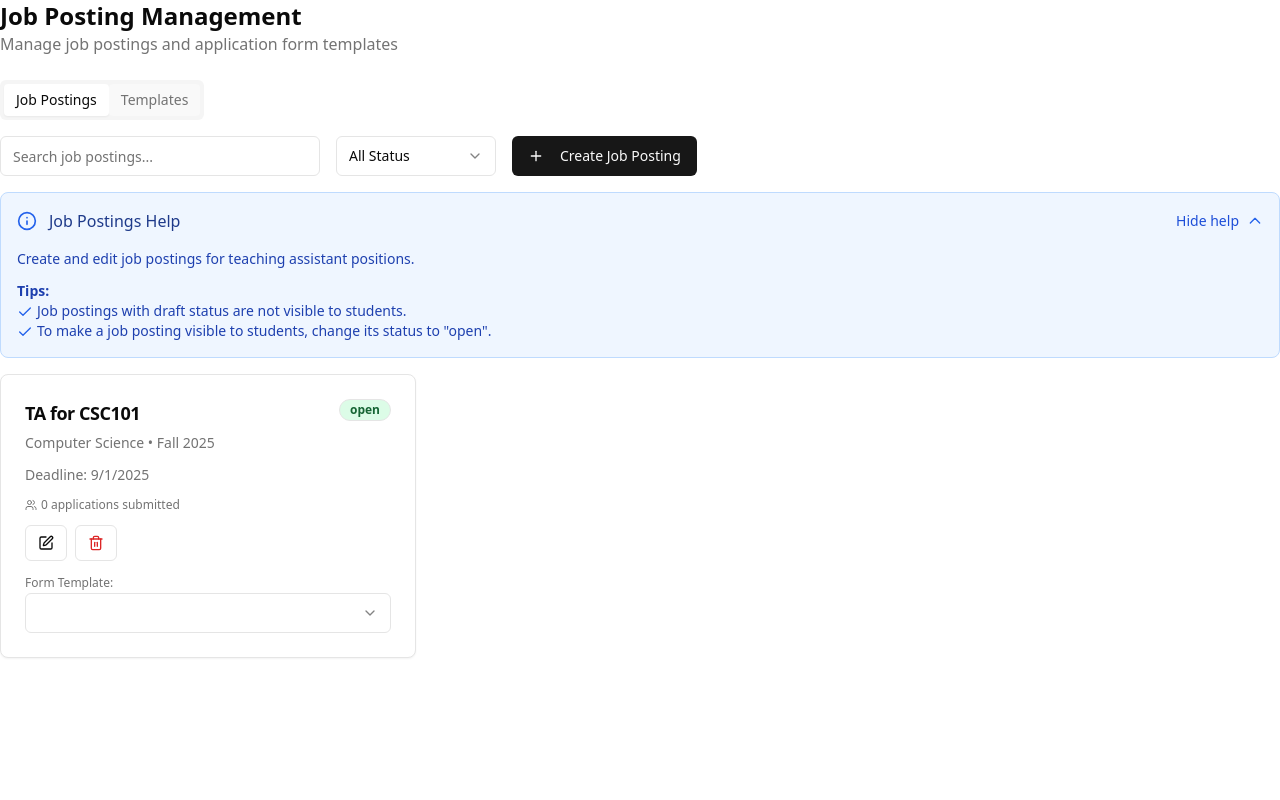
Test: JobManagementPage › opens edit job posting dialog when clicking edit button
This screenshot has width=1280, height=800.
Expected: the text "TA for CSC101" is shown, [25,399,140,427]
Click the button titled "Edit Job Posting": click(46, 543) [25,525,67,561]
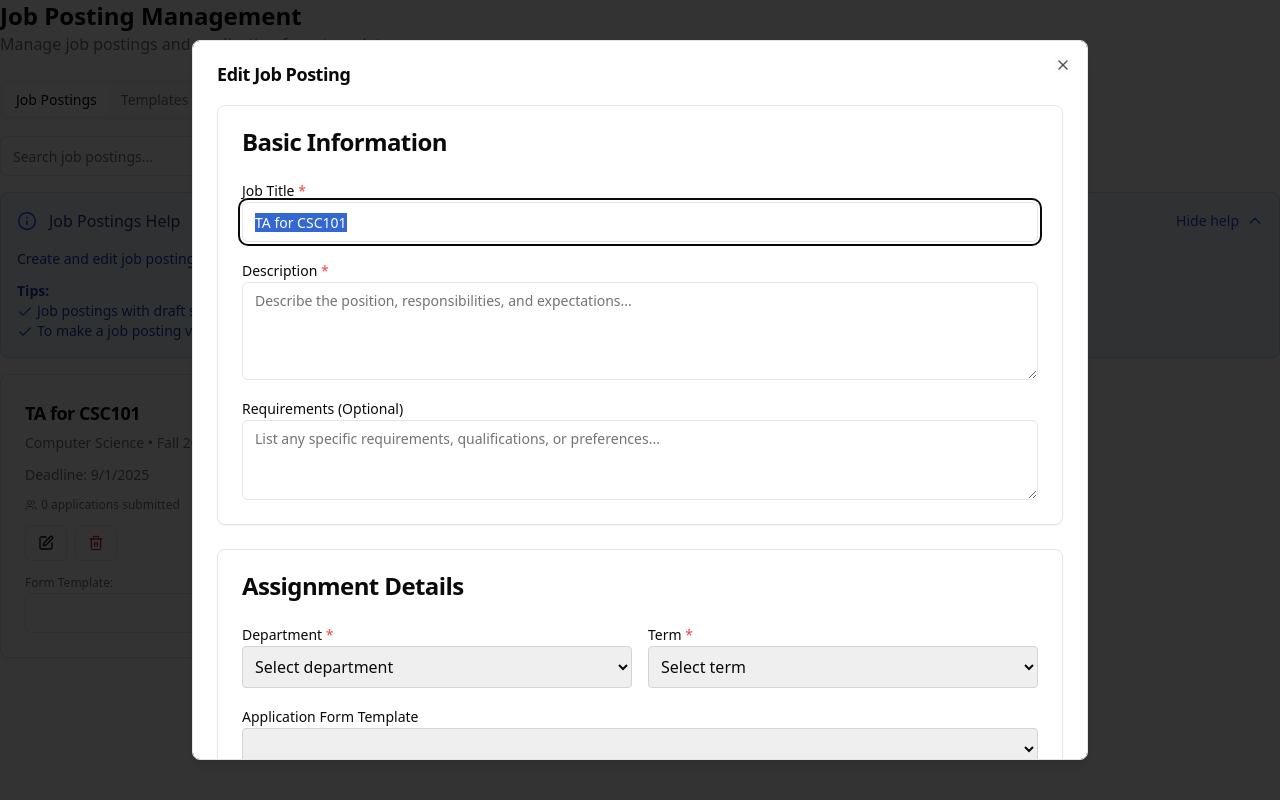
Expected: the heading "Edit Job Posting" is shown, [217,62,350,86]
